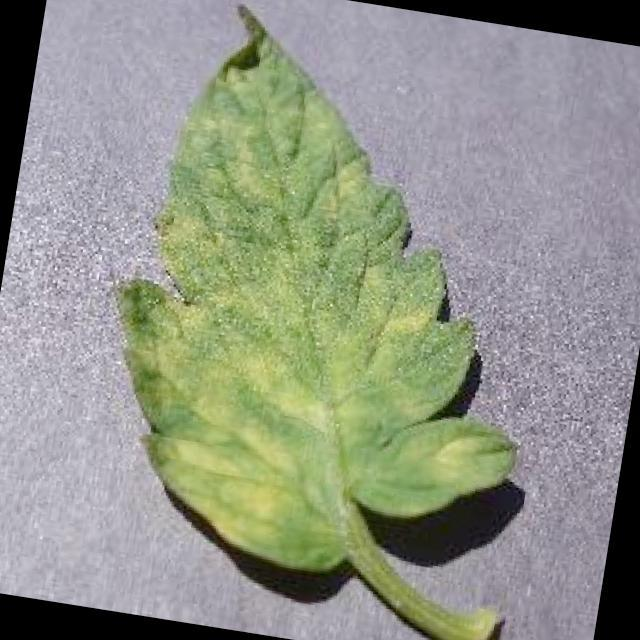Tomato mold leaf: (74, 0, 584, 603)
